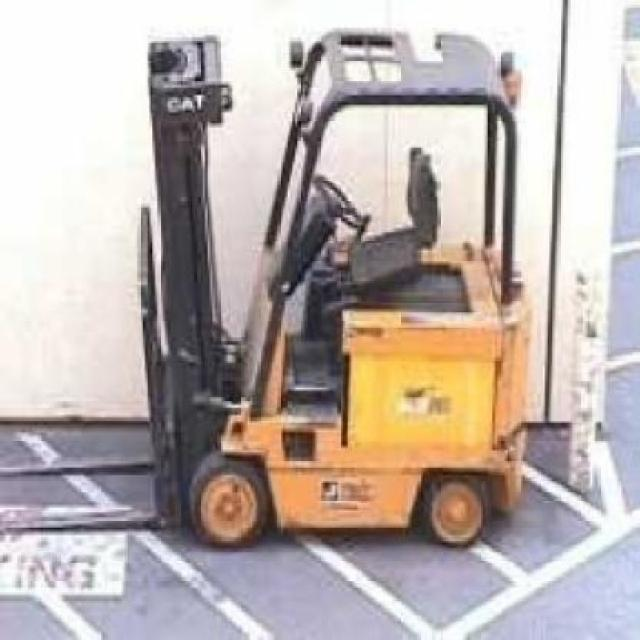forklift: (130, 22, 526, 555)
